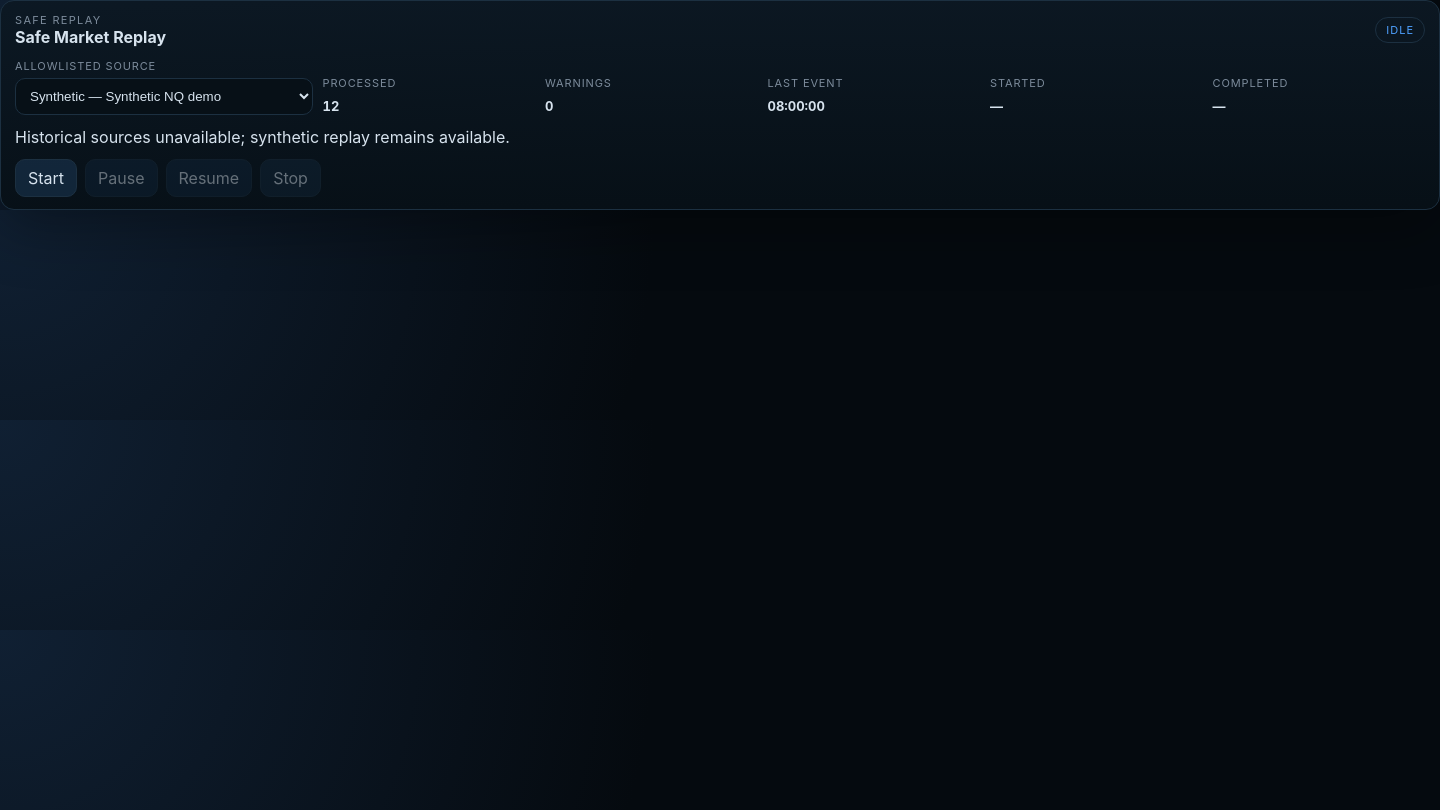
it: ReplayControls › shows action errors and keeps the component interactive
The width and height of the screenshot is (1440, 810).
Click the button "Start": (46, 178) [15,159,77,197]
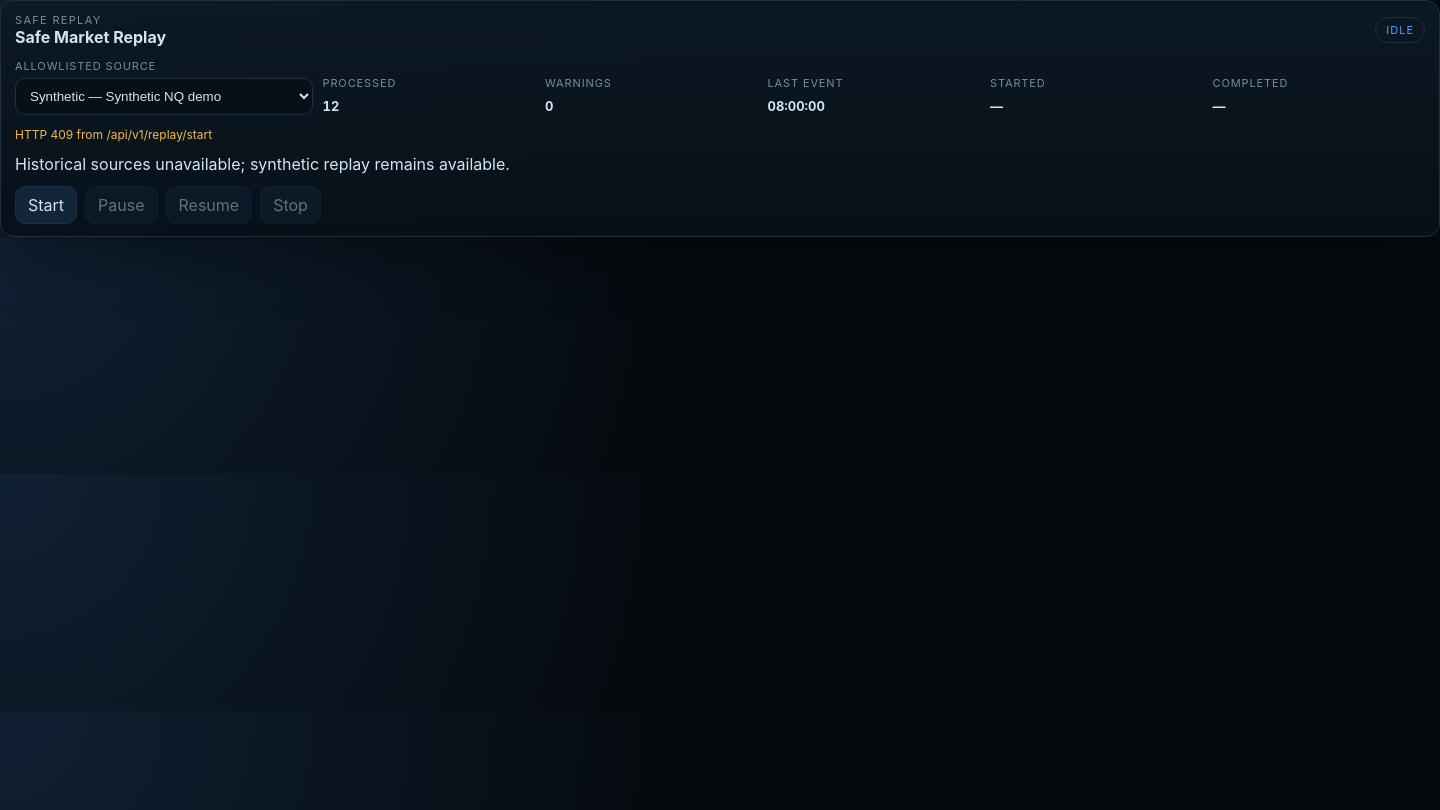
Expected: the button "Start" is enabled, [15,186,77,224]
Now the text "HTTP 409 from /api/v1/replay/start" is shown, box [15,127,212,142]
